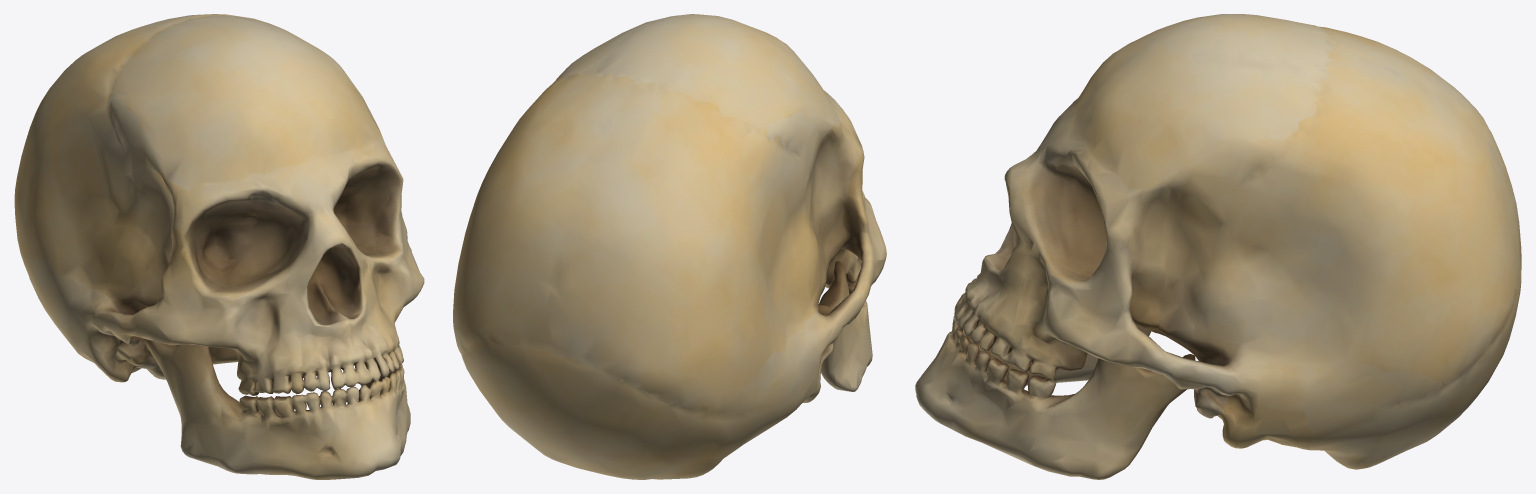
Rendered from yinskull.glb.
3 renders of one model, left to right at view 1: azimuth 30°, elevation 25°; view 2: azimuth 150°, elevation 25°; view 3: azimuth 270°, elevation 25°, orthographic. The views are drawn at different scales.
Parts seen in each view (by area): view 1: skull; view 2: skull; view 3: skull.
Boxes of the visible parts, x1,y1,x2,y2 form: skull: [14, 14, 424, 479]; skull: [453, 14, 886, 479]; skull: [915, 14, 1521, 479].
Size of the model in its own units: 0.1203 by 0.1489 by 0.1999.
1 material, 1 textured.
